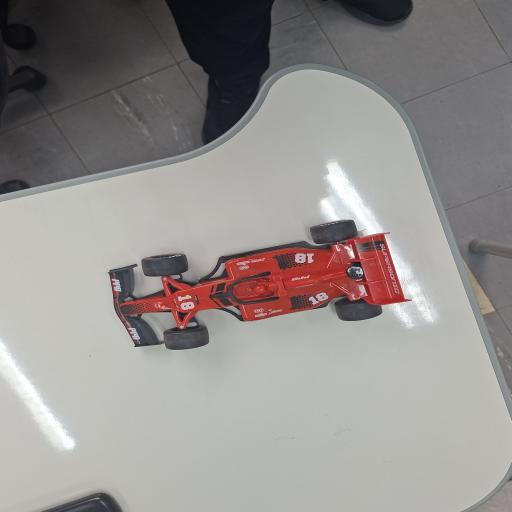carro: (109, 220, 407, 349)
